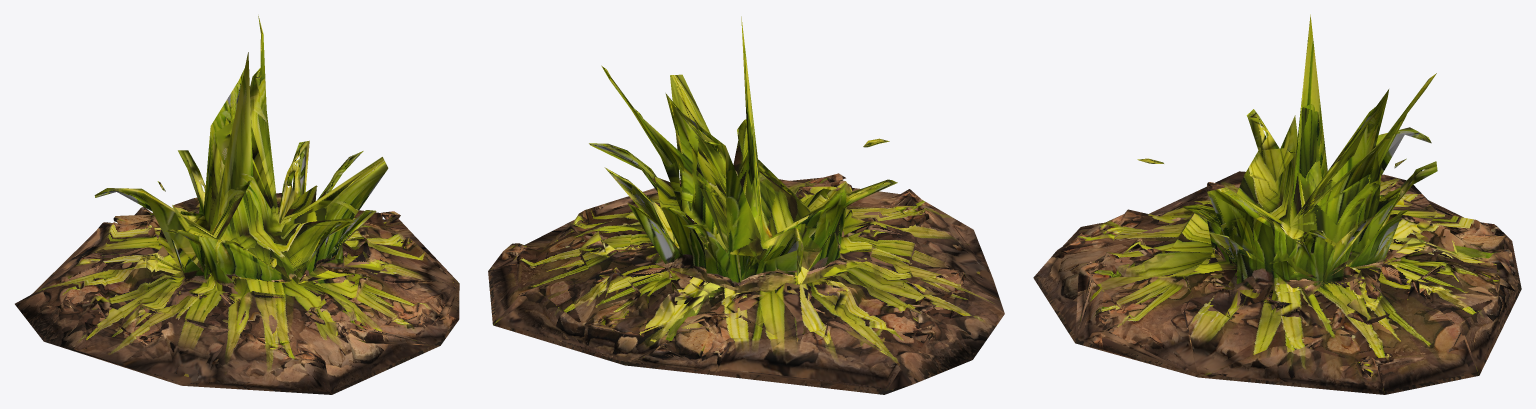
File: Crop_Wheat_Sprout.fbx
3 renders of one model, left to right at view 1: azimuth 30°, elevation 25°; view 2: azimuth 150°, elevation 25°; view 3: azimuth 270°, elevation 25°, orthographic. The views are drawn at different scales.
Visible parts, largest first — view 1: texture_mapping; view 2: texture_mapping; view 3: texture_mapping.
Part boxes in pixels (left/top/right/bottom): texture_mapping: left=15, top=16, right=459, bottom=394; texture_mapping: left=488, top=16, right=1004, bottom=394; texture_mapping: left=1033, top=14, right=1521, bottom=394.
Size of the model in its own units: 0.9098 by 0.8674 by 0.5575.
1 material, 1 textured.
